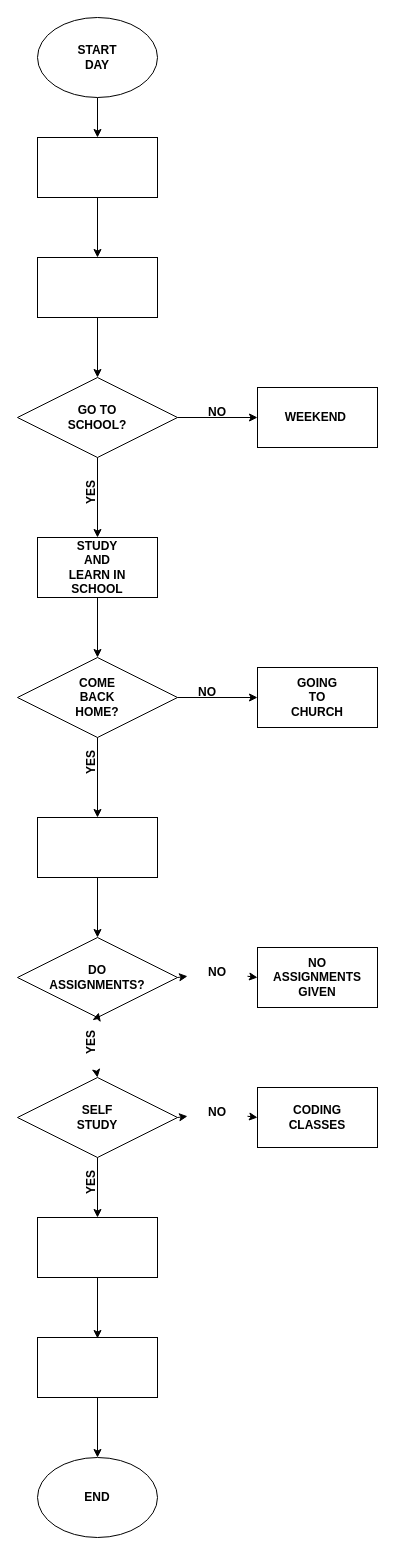
The diagram is 395 pixels wide and 1555 high, and some of its shapes have lost their labels. The box of each missing label's shape, as (x1, y1, x2, y2) in pixels:
DRESS UP: (36, 256, 158, 318)
PRAY: (36, 1336, 158, 1398)
PRAYER TIME: (36, 136, 158, 198)
READ BIBLE: (36, 1216, 158, 1278)
REST AND EAT: (36, 816, 158, 878)
